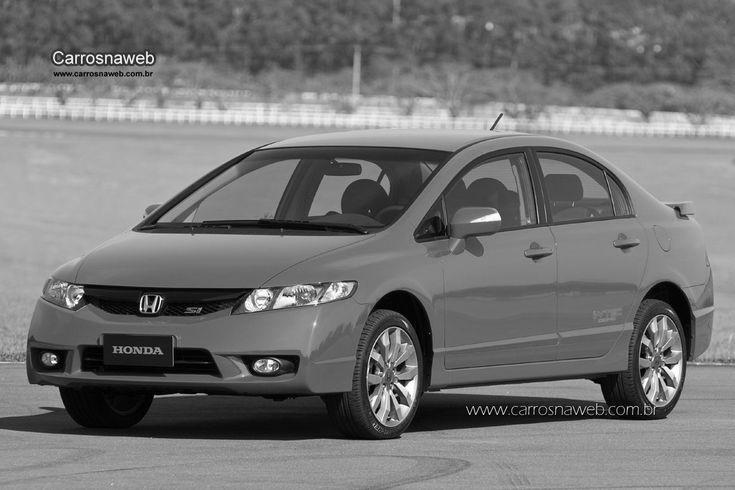Car hood: (72, 225, 378, 295)
Fender - -F-L-: (256, 218, 446, 390)
Fender - -R-L-: (622, 201, 702, 367)
Front bumper: (21, 304, 369, 403)
Headlight - -L-: (230, 275, 362, 318)
Headlight - -R-: (35, 269, 92, 314)
Passenger-s door - -F-L-: (447, 141, 558, 373)
Passenger-s door - -R-L-: (556, 141, 652, 374)
Rear bumper: (686, 276, 727, 366)
Side bumper - -L-: (423, 323, 649, 389)
Side mirror - -L-: (441, 205, 508, 257)
Side mirror - -R-: (138, 198, 179, 230)
